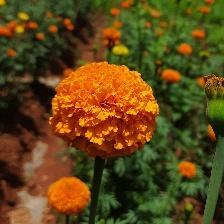marigold: (50, 62, 161, 161)
